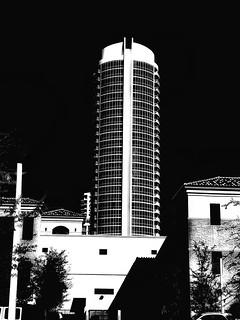building: (91, 38, 161, 240)
